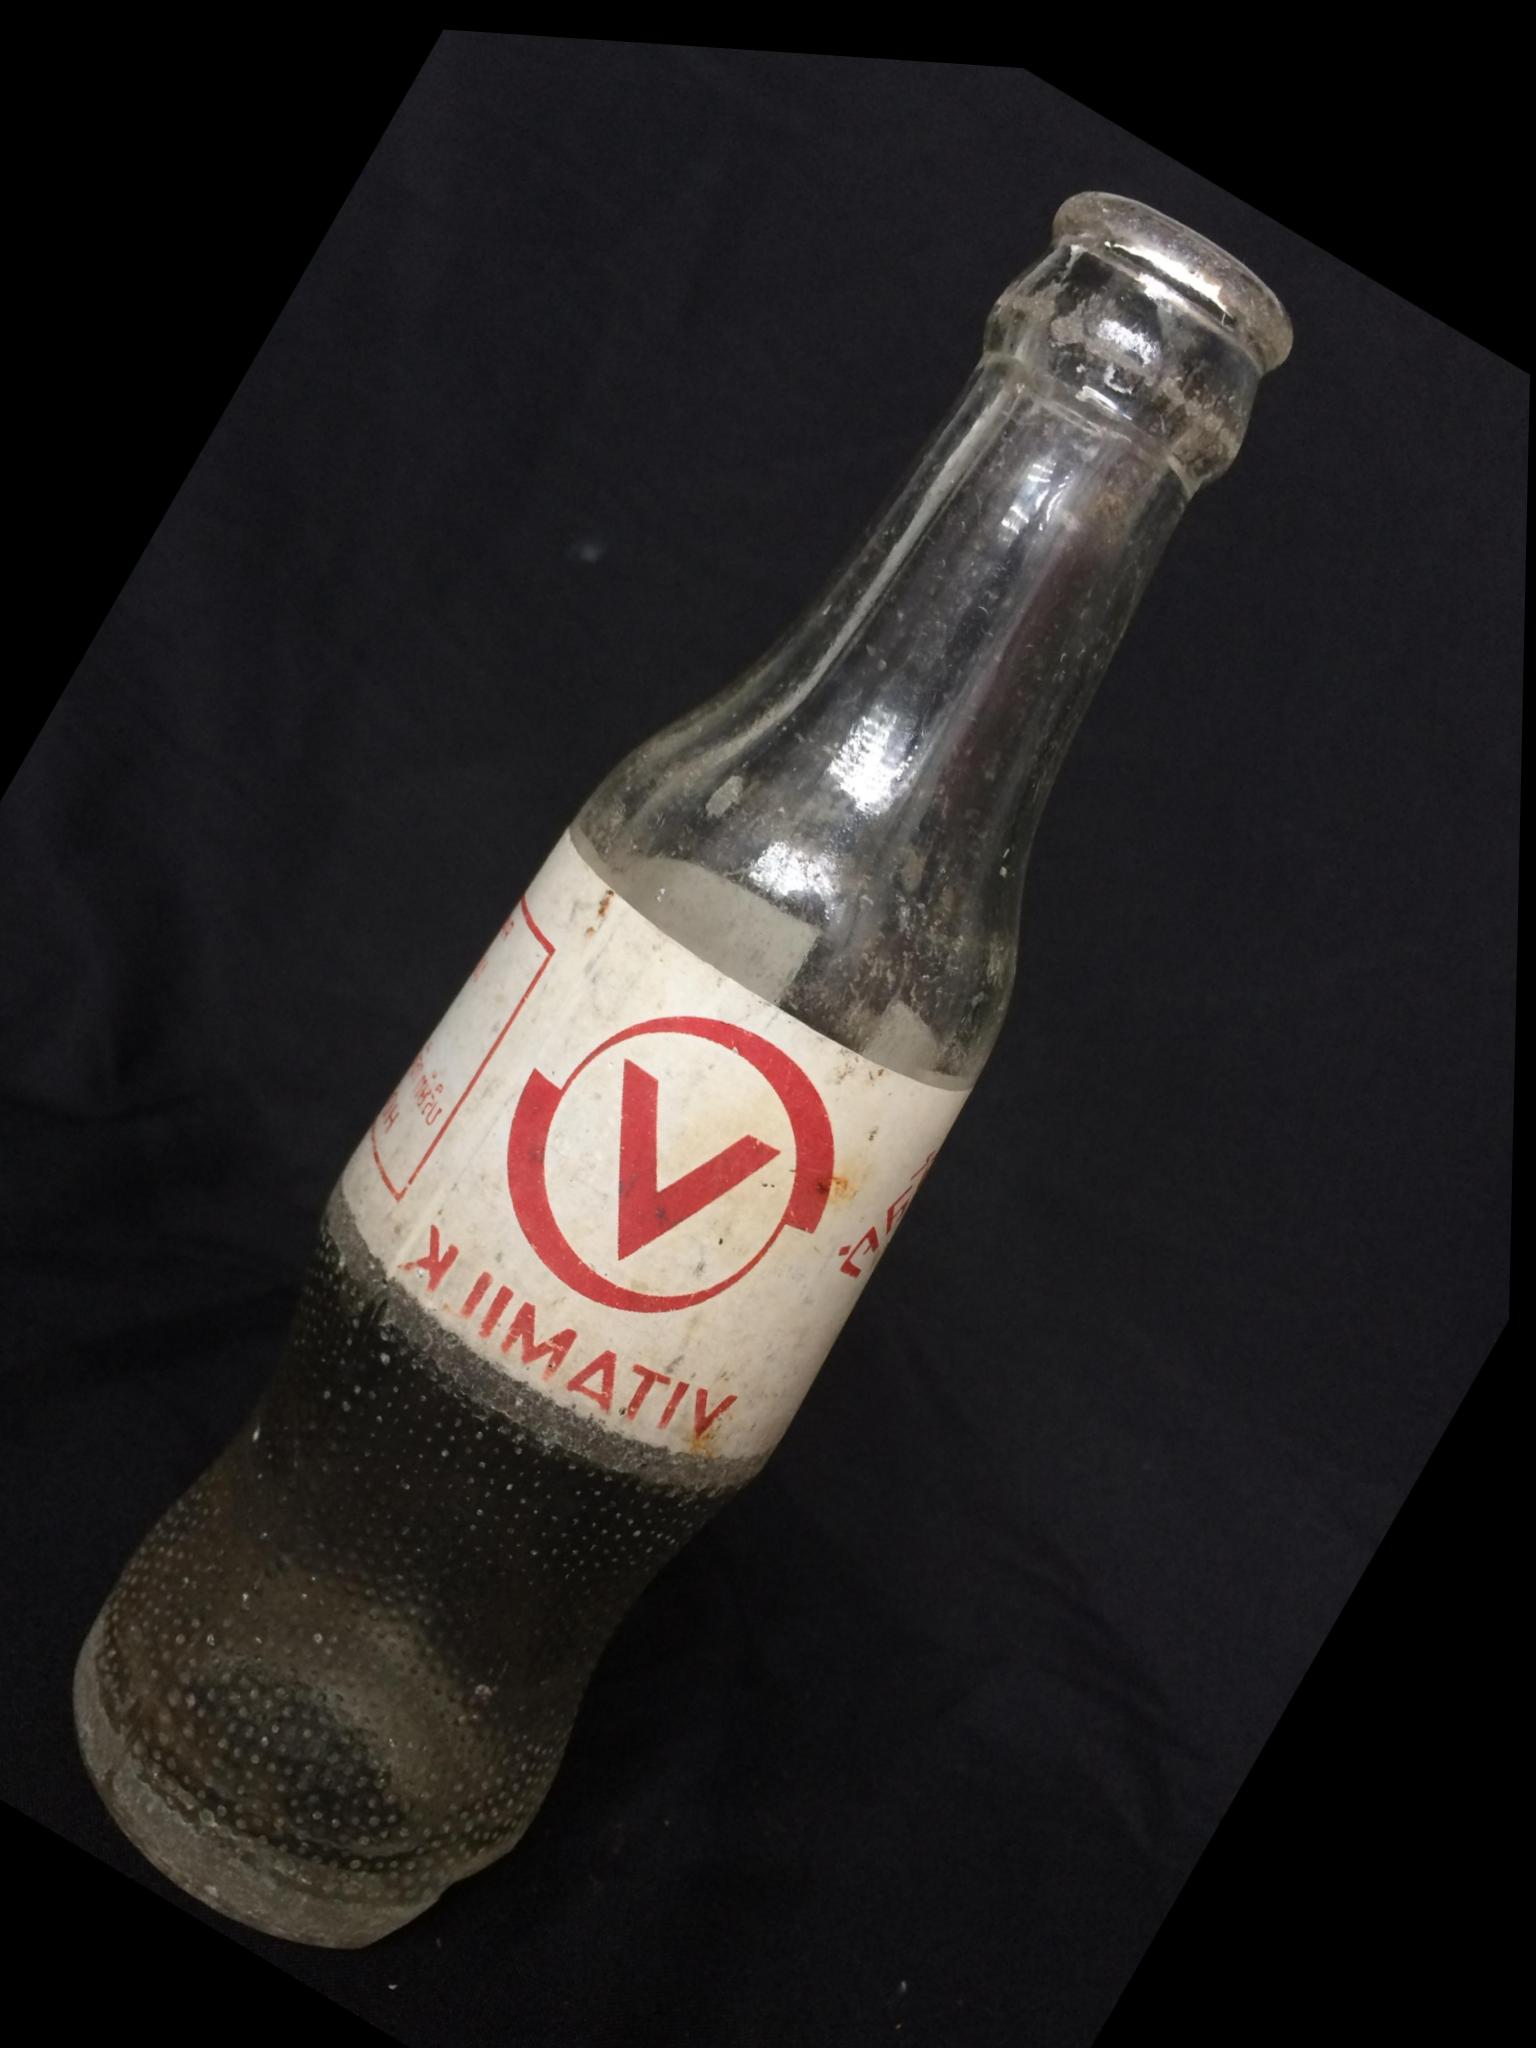glass: (0, 39, 1525, 2046)
